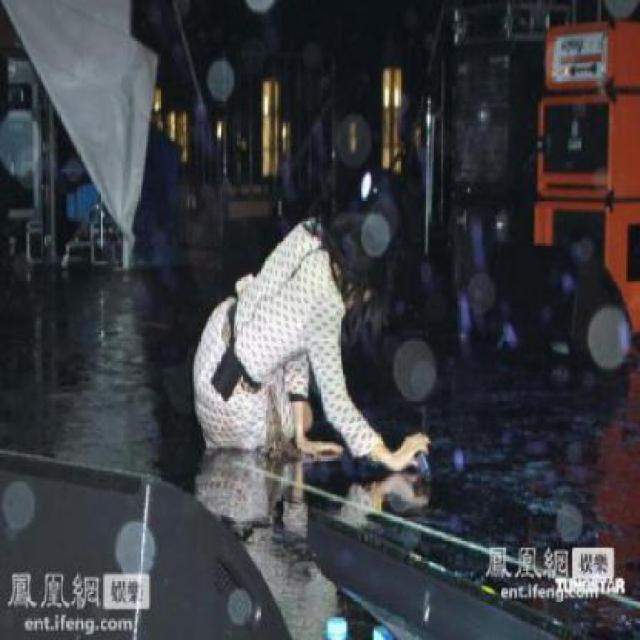fall: (183, 135, 431, 502)
